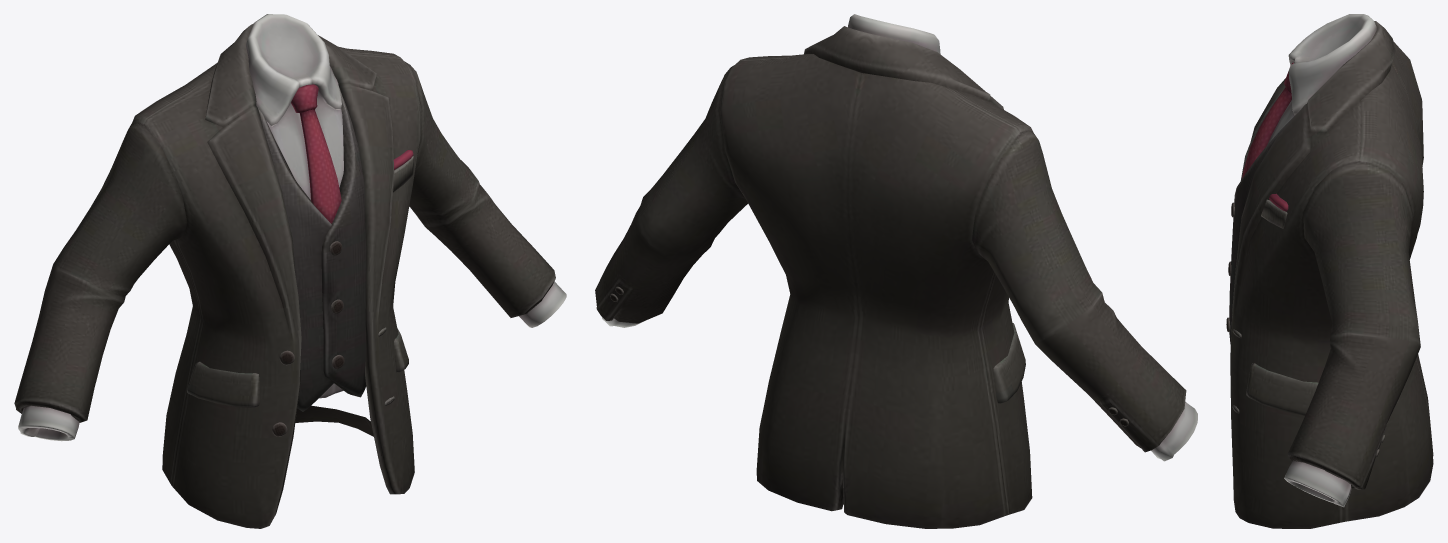
Rendered from cloth04.glb.
3 views of the same model, side by side, from view 1: azimuth 30°, elevation 25°; view 2: azimuth 150°, elevation 25°; view 3: azimuth 270°, elevation 25° (orthographic). The views are drawn at different scales.
Visible parts, largest first — view 1: Top; view 2: Top; view 3: Top.
Part boxes in pixels (x1=…): Top: x1=14, y1=14, x2=566, y2=528; Top: x1=595, y1=14, x2=1197, y2=528; Top: x1=1226, y1=14, x2=1433, y2=528.
Bounding box in the file's own units: 1.94 × 1.56 × 0.6273.
Materials: 1 (1 with a texture image).
